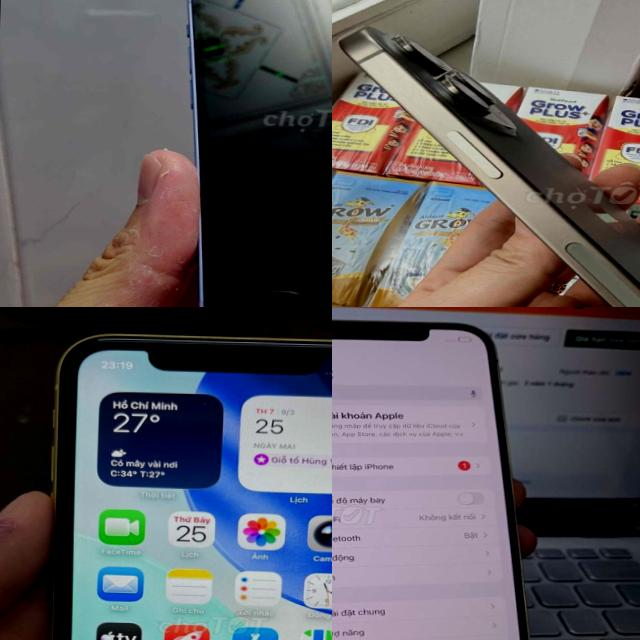gen_11: (32, 316, 332, 640)
gen_12_13: (332, 310, 547, 640), (170, 0, 332, 307)
gen_15: (332, 19, 640, 307)
